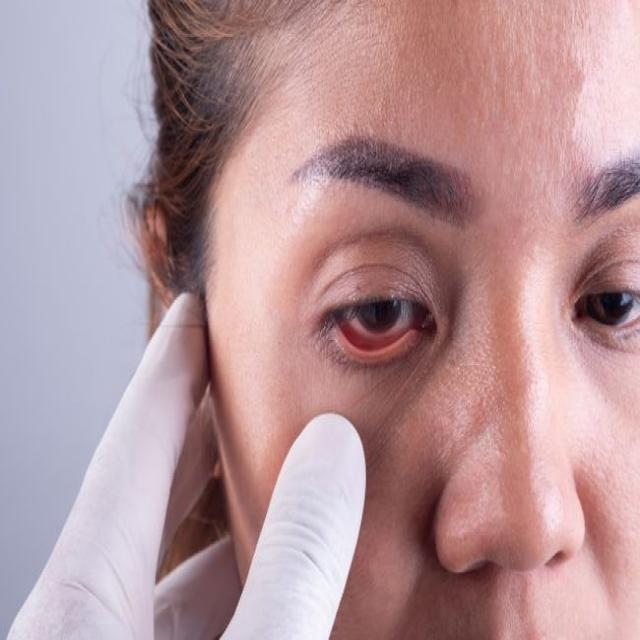Eyebags: (312, 312, 459, 394)
